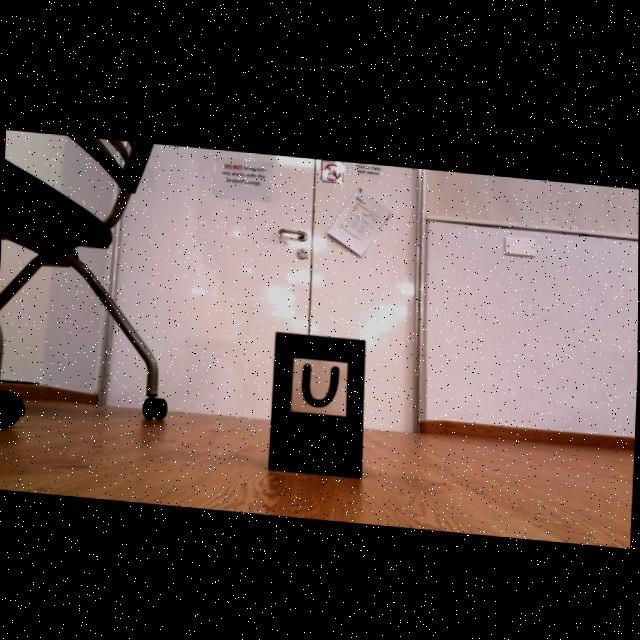U: (302, 359, 339, 404)
